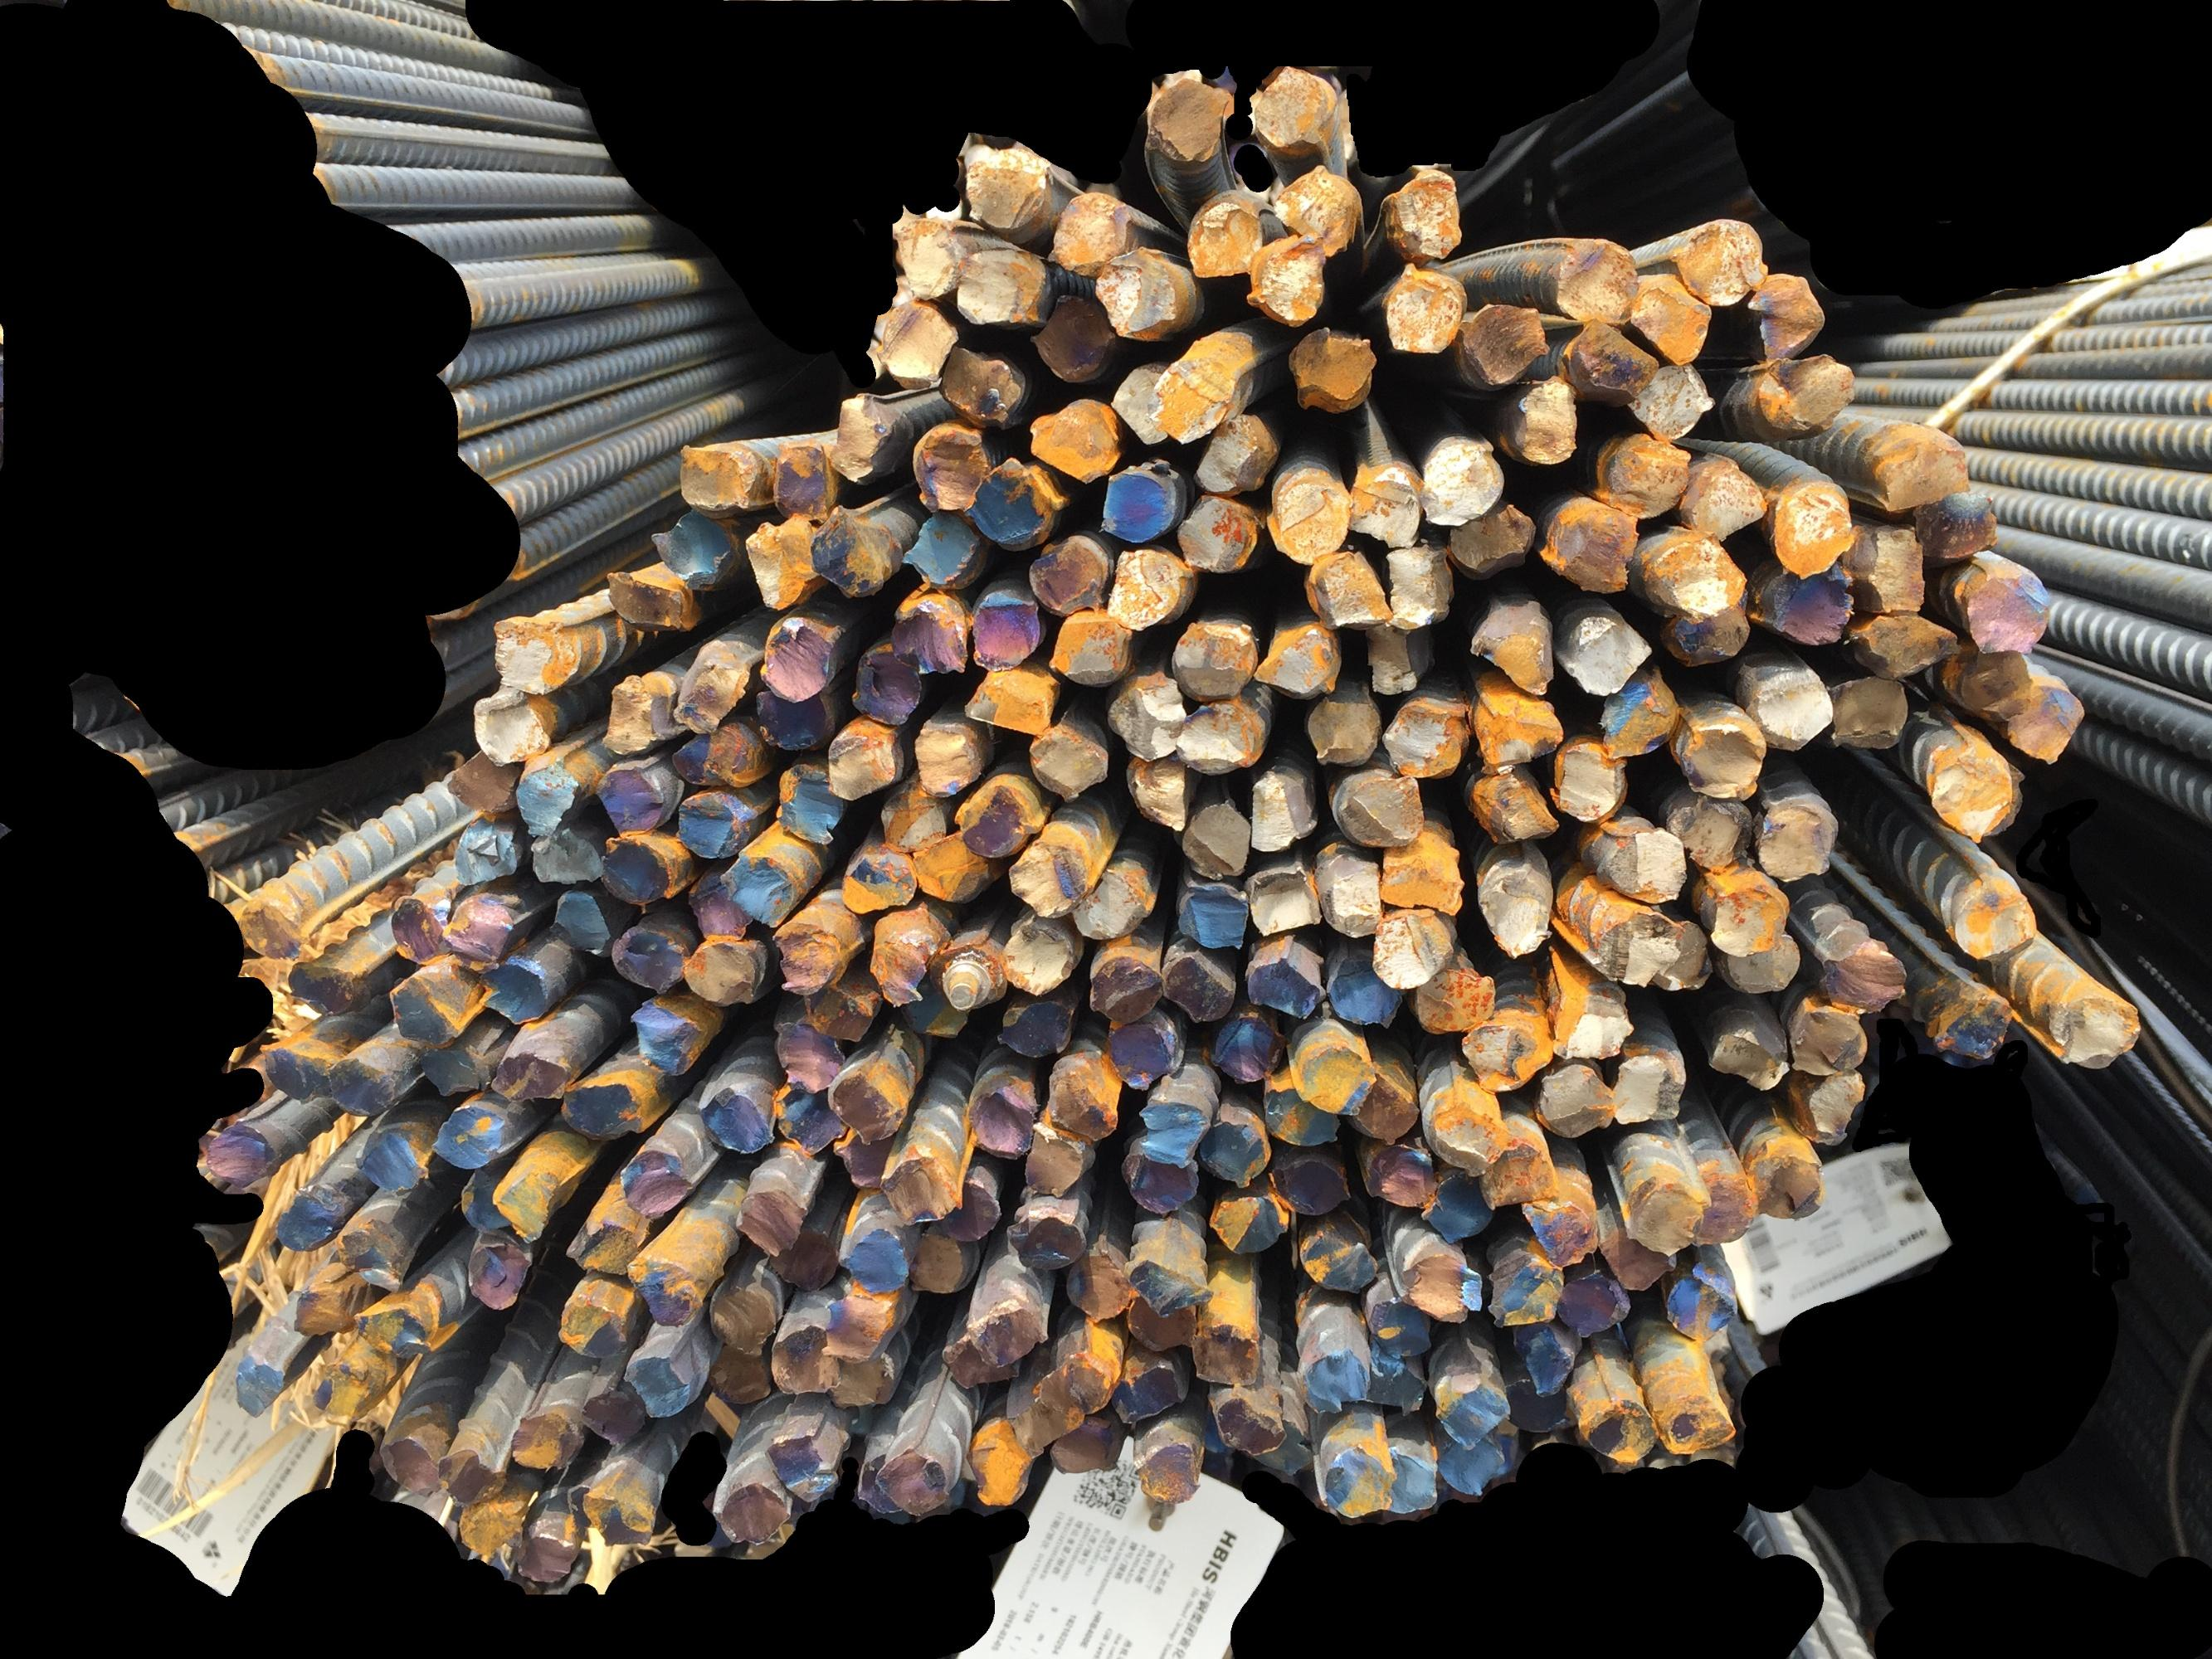bar: (1745, 558, 1851, 650), (1095, 244, 1189, 343), (1940, 871, 2039, 965), (1910, 983, 2015, 1072), (2045, 981, 2141, 1077), (1025, 396, 1123, 490), (964, 458, 1063, 551), (1928, 739, 2013, 845), (1272, 160, 1365, 258), (1668, 213, 1768, 303), (1865, 427, 1971, 511), (1544, 230, 1639, 322), (1469, 598, 1558, 695), (1649, 532, 1747, 620), (1544, 498, 1639, 589), (1593, 662, 1679, 762), (1591, 432, 1691, 518), (1771, 477, 1855, 579), (650, 504, 743, 594), (1469, 676, 1562, 767), (1677, 713, 1769, 803), (1959, 561, 2052, 652), (1476, 852, 1555, 958), (957, 145, 1053, 230), (1581, 903, 1679, 986), (950, 246, 1049, 328), (1379, 690, 1469, 779), (809, 502, 896, 594), (1286, 328, 1379, 415), (1740, 662, 1832, 749), (1558, 610, 1654, 694), (1750, 352, 1849, 432), (1032, 293, 1121, 382), (1100, 669, 1185, 762), (1382, 166, 1464, 261), (1269, 462, 1347, 561), (1175, 490, 1264, 577), (1170, 613, 1259, 701), (1755, 795, 1841, 885), (1377, 833, 1469, 917), (1421, 432, 1504, 525), (673, 638, 755, 732), (1381, 263, 1462, 357), (1253, 63, 1337, 153), (912, 418, 990, 514), (1004, 829, 1089, 917), (1044, 190, 1133, 274), (1103, 544, 1192, 627), (757, 619, 847, 701), (1851, 608, 1958, 678), (1445, 502, 1537, 582), (1328, 770, 1424, 847), (1149, 75, 1232, 162), (1189, 415, 1276, 498), (1255, 615, 1342, 699), (1461, 301, 1548, 385), (1630, 274, 1712, 362), (1748, 268, 1829, 359), (1246, 232, 1325, 324), (1044, 608, 1137, 687), (941, 345, 1027, 429), (1347, 450, 1421, 547), (1288, 1030, 1374, 1114), (1623, 1171, 1708, 1255), (1021, 530, 1109, 612), (1316, 1434, 1398, 1521), (1626, 361, 1713, 443), (1095, 462, 1184, 542), (879, 300, 959, 387), (1145, 359, 1234, 437), (675, 441, 765, 518), (1177, 699, 1267, 775), (1661, 793, 1752, 870), (1942, 643, 2034, 718), (763, 1424, 847, 1506), (1396, 1244, 1478, 1328), (2005, 683, 2088, 765), (1548, 981, 1633, 1061), (1602, 824, 1687, 904), (490, 613, 577, 692), (967, 1406, 1034, 1509), (870, 908, 940, 1006), (962, 666, 1060, 735), (1457, 1021, 1551, 1093), (1367, 904, 1449, 986), (1574, 321, 1658, 401), (953, 779, 1039, 857), (1550, 737, 1628, 823), (1708, 878, 1794, 957), (1304, 551, 1391, 627), (1818, 938, 1905, 1014), (1907, 493, 2003, 563), (1245, 763, 1318, 854), (1469, 769, 1560, 842), (746, 514, 818, 606), (1034, 1344, 1116, 1424), (1827, 671, 1907, 753), (830, 390, 899, 484), (1687, 458, 1766, 542), (819, 1279, 896, 1364), (901, 514, 987, 591), (1185, 192, 1262, 277), (1327, 943, 1403, 1028), (770, 760, 845, 847), (1855, 523, 1924, 615), (472, 685, 551, 767), (720, 847, 798, 929), (929, 932, 1008, 1014), (1206, 1176, 1288, 1255), (1536, 1058, 1614, 1140), (629, 995, 713, 1072), (847, 641, 924, 725), (879, 1150, 964, 1225), (892, 591, 967, 676), (1025, 723, 1110, 798), (1126, 1249, 1215, 1321), (1313, 847, 1384, 936), (894, 213, 964, 303), (669, 725, 767, 789), (554, 1281, 633, 1361), (828, 1063, 906, 1143), (600, 831, 680, 910), (1428, 1096, 1508, 1175), (1245, 945, 1327, 1021), (1706, 1016, 1788, 1093), (601, 671, 676, 755), (1407, 962, 1496, 1032), (767, 1014, 847, 1091), (1260, 1072, 1340, 1148), (1435, 1370, 1511, 1450), (1417, 1166, 1494, 1246), (1611, 1047, 1687, 1127), (673, 782, 755, 857), (1788, 1002, 1870, 1077), (682, 936, 765, 1009), (1510, 376, 1581, 462), (967, 1075, 1037, 1162), (711, 1469, 790, 1546), (1107, 1012, 1185, 1089), (1299, 1223, 1379, 1298), (514, 753, 587, 835), (913, 831, 995, 904), (387, 974, 471, 1046), (1198, 1105, 1269, 1188), (1386, 544, 1455, 629), (1661, 599, 1747, 669), (350, 1297, 439, 1363), (622, 1253, 699, 1330), (770, 917, 847, 993), (1245, 861, 1321, 938), (1161, 946, 1236, 1025), (1520, 1195, 1598, 1270), (695, 1082, 776, 1155), (594, 755, 668, 835), (802, 967, 882, 1040), (1300, 690, 1381, 763), (1072, 868, 1154, 939), (204, 1119, 288, 1188), (769, 436, 838, 519), (1799, 1065, 1867, 1150), (1110, 362, 1177, 450), (1001, 917, 1077, 992), (1086, 945, 1161, 1021), (1046, 1063, 1123, 1138), (1555, 1265, 1632, 1340), (837, 1216, 910, 1295), (734, 1182, 807, 1260), (615, 1145, 694, 1218), (558, 1079, 652, 1140), (335, 1223, 415, 1295), (492, 1168, 572, 1239), (1180, 798, 1250, 880), (966, 1297, 1049, 1364), (607, 566, 690, 634), (1265, 1152, 1353, 1216), (1023, 1122, 1098, 1197), (1124, 1141, 1199, 1216), (1293, 1340, 1368, 1415), (1490, 1255, 1565, 1330), (462, 1234, 535, 1310), (770, 1079, 847, 1152), (1175, 875, 1248, 951), (1006, 1199, 1086, 1269), (1663, 1269, 1743, 1338), (973, 587, 1041, 669), (769, 1323, 842, 1398), (610, 917, 683, 992), (1114, 1354, 1189, 1427), (1351, 1070, 1424, 1145), (706, 1277, 777, 1354), (763, 1220, 840, 1291), (350, 1124, 431, 1192), (443, 892, 523, 960), (1478, 1140, 1558, 1208), (622, 1347, 695, 1420), (877, 1445, 952, 1516), (877, 779, 948, 854), (1363, 1286, 1435, 1361), (1752, 1143, 1823, 1218), (828, 721, 898, 798), (912, 718, 981, 795), (1211, 1009, 1281, 1086), (507, 1410, 587, 1476), (429, 1103, 511, 1168), (1658, 1389, 1740, 1453), (1192, 1319, 1264, 1392), (1049, 1408, 1124, 1478), (1131, 1439, 1206, 1509), (1140, 1091, 1208, 1168), (1361, 619, 1429, 695), (1123, 751, 1189, 829), (488, 1039, 568, 1103), (934, 1331, 1021, 1391), (284, 958, 377, 1014), (1647, 913, 1710, 995), (448, 814, 519, 885), (685, 870, 755, 943), (274, 1180, 349, 1248), (563, 1213, 640, 1279), (1361, 1140, 1438, 1206), (751, 687, 830, 751), (1004, 1394, 1084, 1457), (819, 1347, 899, 1410), (1720, 931, 1801, 993), (1210, 1387, 1281, 1457), (444, 749, 519, 816), (1581, 1396, 1656, 1462), (260, 1040, 336, 1105), (390, 890, 455, 967), (235, 890, 305, 960), (546, 889, 614, 960), (1065, 1249, 1131, 1323), (840, 847, 915, 911), (997, 995, 1072, 1060), (579, 1486, 655, 1549), (479, 964, 558, 1025), (1698, 1168, 1757, 1248), (831, 1121, 899, 1190), (1124, 1291, 1194, 1359), (312, 1361, 383, 1427), (455, 1483, 521, 1554), (580, 1380, 647, 1452), (1361, 1347, 1433, 1413), (1499, 1373, 1574, 1436), (1600, 1229, 1675, 1291), (1435, 1432, 1506, 1497), (1518, 1324, 1581, 1398), (324, 1058, 399, 1119), (378, 1432, 444, 1500), (514, 1513, 580, 1581), (899, 974, 969, 1039), (528, 828, 603, 885), (1384, 1441, 1440, 1518), (436, 1445, 507, 1504), (940, 1176, 1002, 1243), (418, 1040, 493, 1094), (453, 1166, 516, 1230), (708, 1344, 769, 1408), (1255, 1410, 1311, 1480), (856, 1446, 910, 1518), (230, 1351, 288, 1417), (291, 1277, 357, 1335), (910, 1229, 967, 1295), (563, 1476, 596, 1539)
